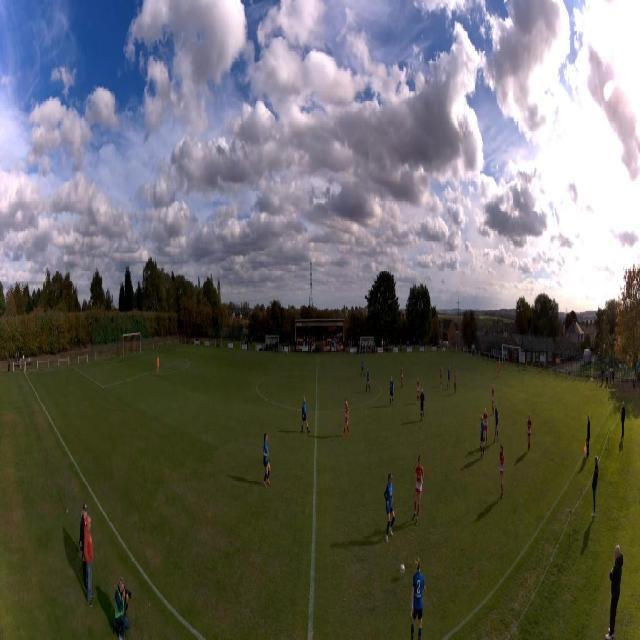ball: (400, 563, 405, 575)
player: (409, 555, 425, 640), (412, 454, 424, 525), (384, 473, 395, 543), (262, 433, 271, 488), (498, 443, 505, 499), (301, 396, 311, 434), (483, 407, 492, 445), (341, 398, 350, 436), (493, 401, 500, 442), (526, 413, 532, 453), (420, 388, 425, 423), (480, 416, 484, 458), (389, 375, 394, 407), (365, 367, 371, 393), (491, 384, 495, 415), (416, 377, 420, 405), (447, 364, 451, 390), (361, 357, 366, 377), (400, 366, 404, 388), (439, 366, 443, 387), (454, 369, 457, 395), (157, 353, 160, 378), (499, 360, 501, 378)
